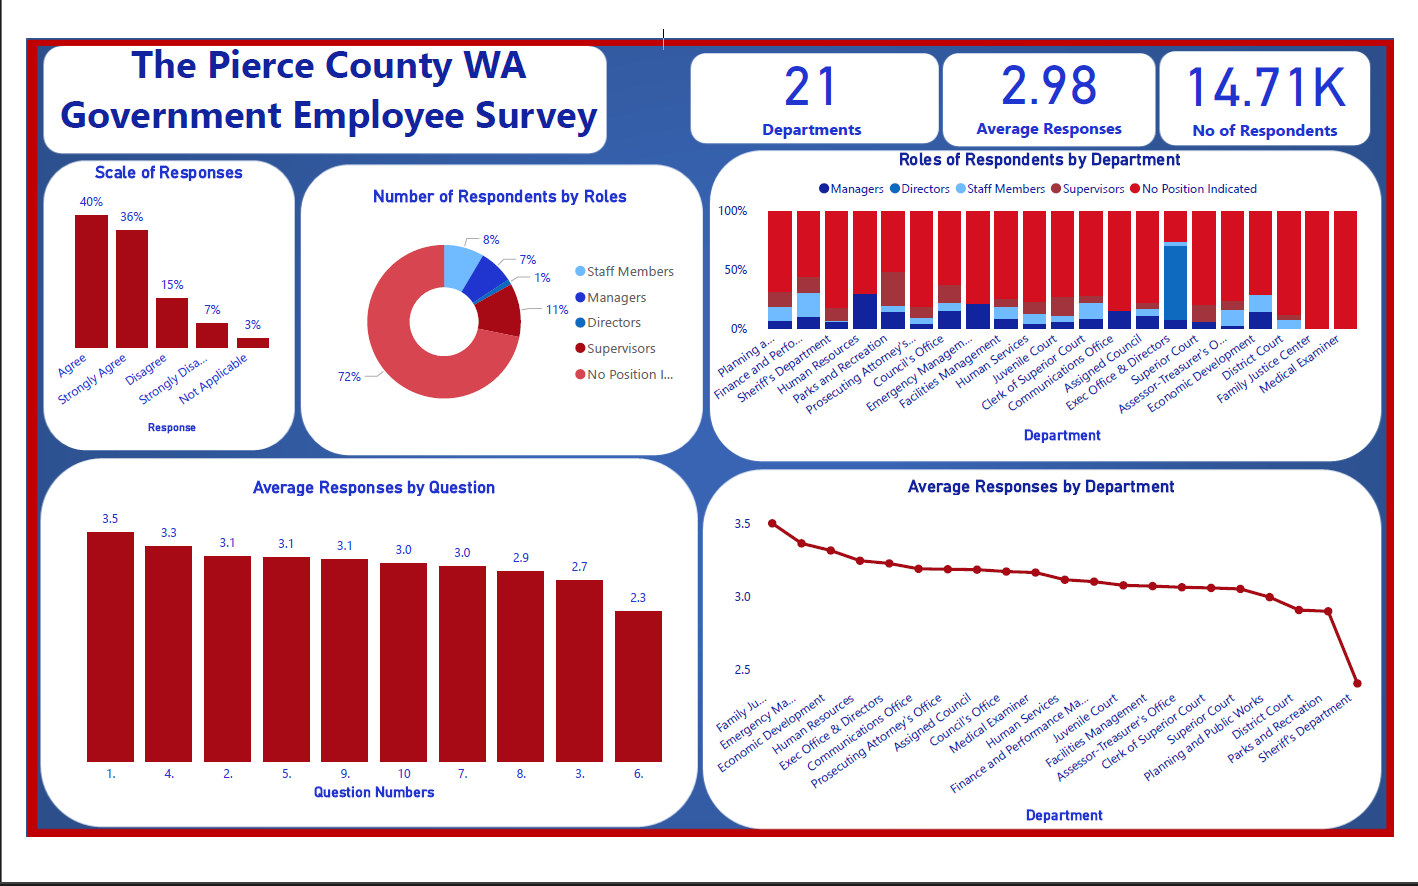

Layout of this report page (visuals, bound fields, positions):
{"tool":"powerbi","page":{"name":"Page 1","canvas":[1350,825],"ordinal":0},"visuals":[{"type":"card","fields":{"Values":["HR Survey Reponses.No of Respondents"]},"box":[1125.9,11.5,205.2,110],"z":0},{"type":"card","fields":{"Values":["HR Survey Reponses.Average Responses"]},"box":[904.3,11.5,211.7,110],"z":1000},{"type":"pieChart","title":"Number of Respondents by Roles","fields":{"Y":["HR Survey Reponses.Staff Members","HR Survey Reponses.Managers","HR Survey Reponses.Directors","HR Survey Reponses.Supervisors","HR Survey Reponses.NO Indication"]},"box":[279,162.5,377.5,249.5],"z":2000},{"type":"clusteredColumnChart","title":"Average Responses by Question","fields":{"Y":["HR Survey Reponses.Average Responses"],"Category":["HR Survey Reponses.Question Numbers"]},"box":[31.2,448.1,625.3,348],"z":4000},{"type":"hundredPercentStackedColumnChart","title":"Roles of Respondents by Department","fields":{"Category":["HR Survey Reponses.Department"],"Y":["HR Survey Reponses.Managers","HR Survey Reponses.Directors","HR Survey Reponses.Staff Members","HR Survey Reponses.Supervisors","HR Survey Reponses.No Position Indicated"]},"box":[674.6,137.9,656.5,295.4],"z":5000},{"type":"lineChart","title":"Average Responses by Department","fields":{"Category":["HR Survey Reponses.Department"],"Y":["HR Survey Reponses.Average Responses"]},"box":[674.6,448.1,656.5,348],"z":6000},{"type":"textbox","box":[21.3,11.5,517,108.3],"z":7000},{"type":"card","fields":{"Values":["HR Survey Reponses.Departments"]},"box":[656.5,13.1,238,108.3],"z":8000},{"type":"slicer","title":"Filter by Response","fields":{"Values":["HR Survey Reponses.Response Text"]},"box":[31.2,162.5,231.4,203.5],"z":9000}]}

Visuals, with their boxes in screenshot pixels (x1, y1, x2, y2), scaled from the page's 1350x825 canvas onto the 1418x886 screenshot:
card - HR Survey Reponses.No of Respondents: [1183, 12, 1398, 130]
card - HR Survey Reponses.Average Responses: [950, 12, 1172, 130]
"Number of Respondents by Roles" pieChart: [293, 175, 690, 442]
"Average Responses by Question" clusteredColumnChart: [33, 481, 690, 855]
"Roles of Respondents by Department" hundredPercentStackedColumnChart: [709, 148, 1398, 465]
"Average Responses by Department" lineChart: [709, 481, 1398, 855]
textbox: [22, 12, 565, 129]
card - HR Survey Reponses.Departments: [690, 14, 940, 130]
"Filter by Response" slicer: [33, 175, 276, 393]
